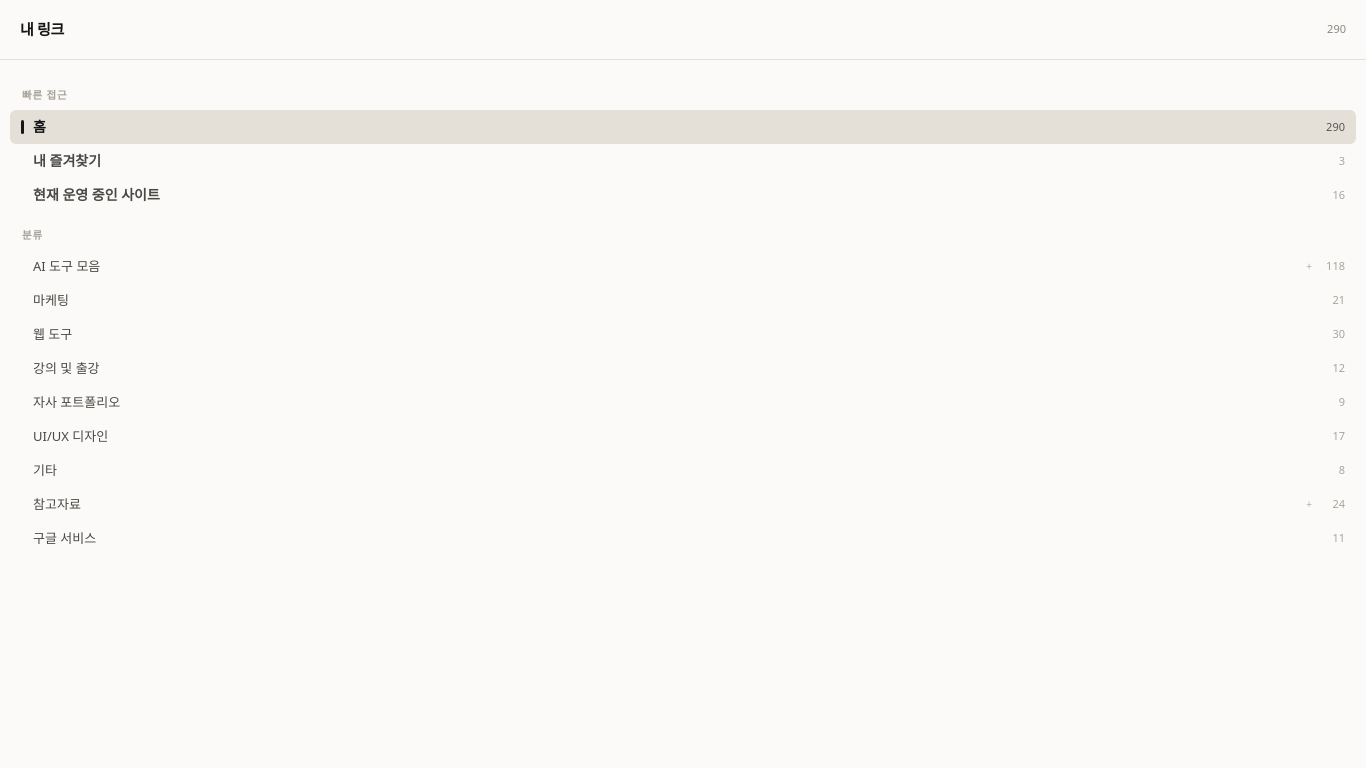
Sidebar › 하위 펼침 토글 › – 를 다시 누르면 접힌다
The image size is (1366, 768).
Click the button named "AI 도구 모음 하위 분류 펼치기". click: click(1309, 266)
box: [1304, 250, 1314, 284]
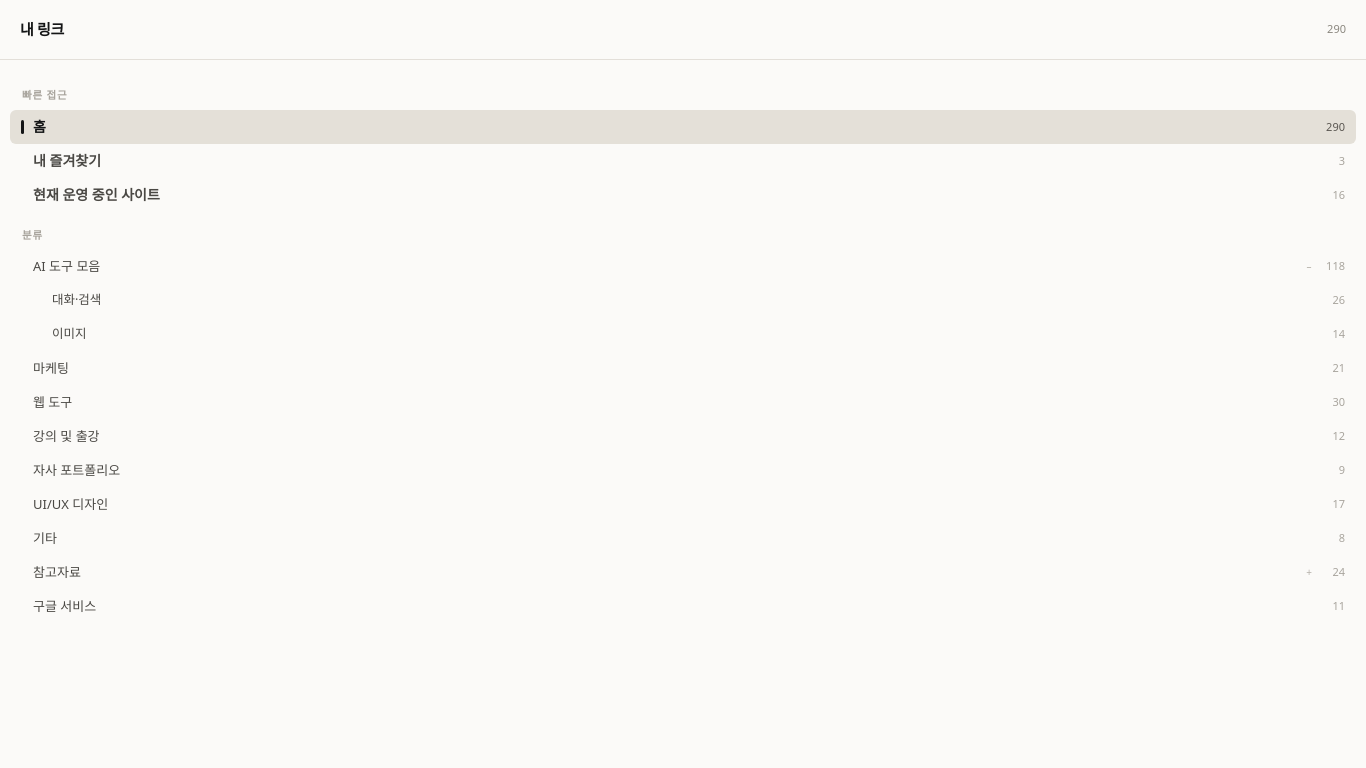
Click the button named "AI 도구 모음 하위 분류 접기". click: click(1309, 266)
box: [1304, 250, 1314, 284]
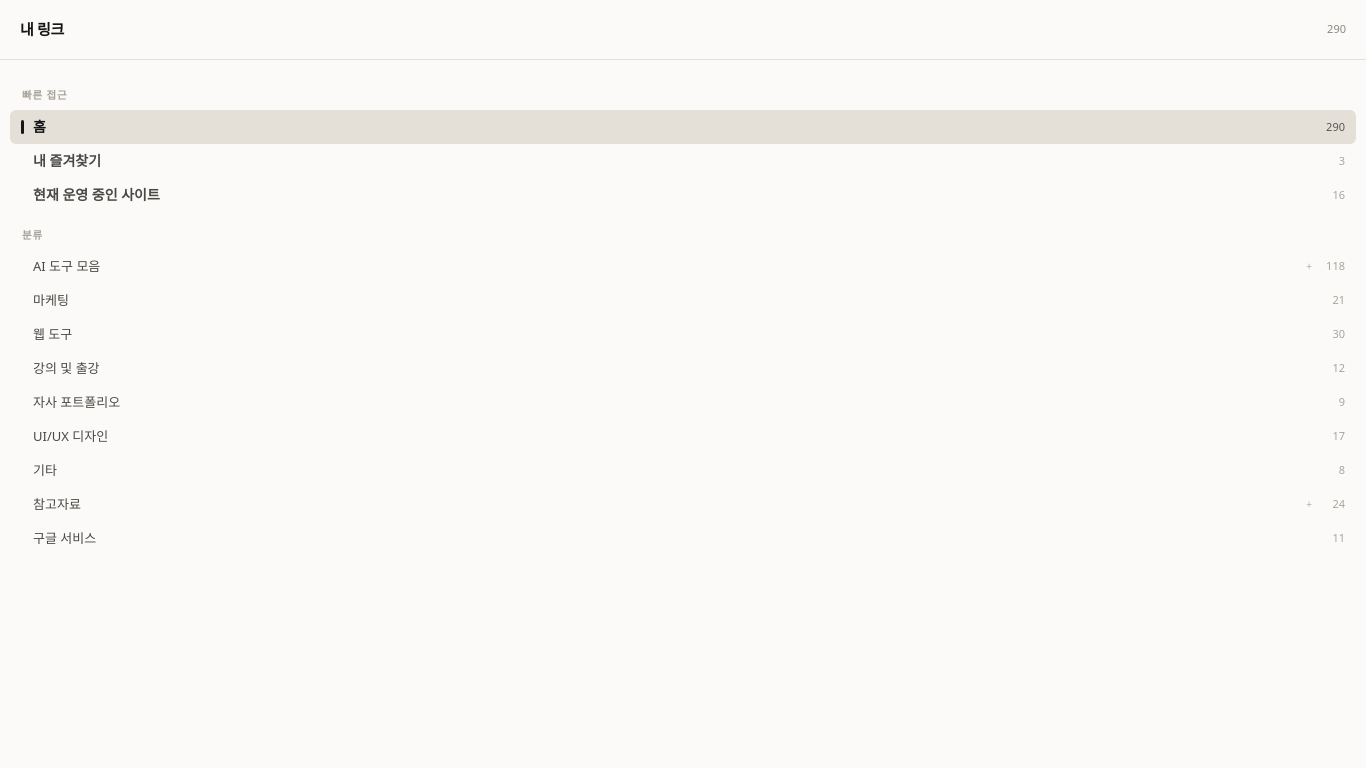
Check: the link "대화·검색" is gone
Check: the button named "AI 도구 모음 하위 분류 펼치기" is collapsed, box [1304, 250, 1314, 284]
